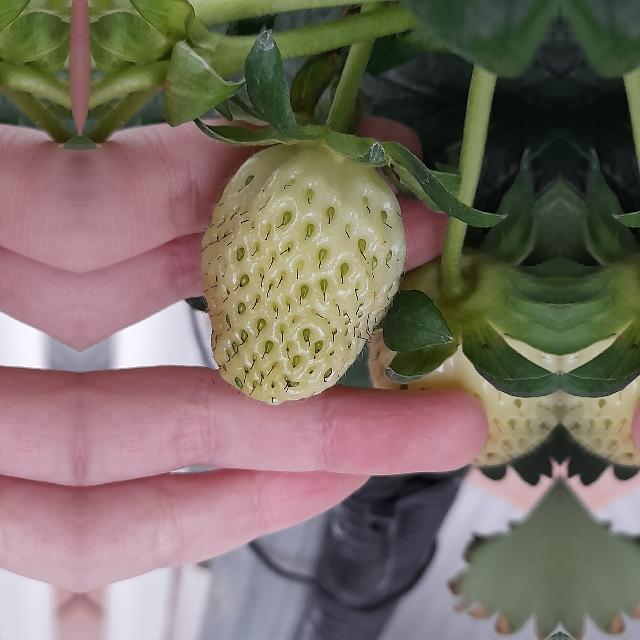Health_25: (200, 140, 406, 406)
